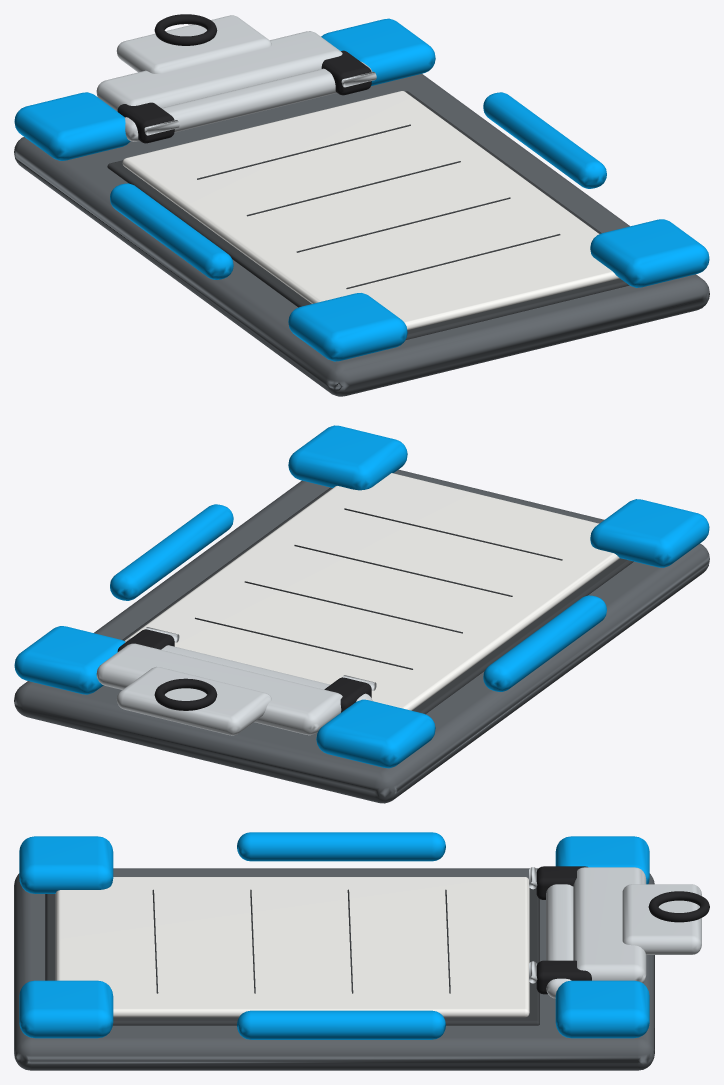
Rendered from Klemmbrett_3D.glb.
The picture shows the model from 3 angles, top to bottom: view 1: azimuth 30°, elevation 25°; view 2: azimuth 150°, elevation 25°; view 3: azimuth 270°, elevation 25°; orthographic projection. The views are drawn at different scales.
Visible parts, largest first — view 1: Klemmbrett_3D__web_warm_white_clipboard_paper_sheet, Klemmbrett_3D__web_dark_graphite_clipboard_frame, Klemmbrett_3D__web_bright_blue_clipboard_corner_bumpers, Klemmbrett_3D__web_brushed_metal_clipboard_clip, Klemmbrett_3D__web_dark_paper_edge_shadow, Klemmbrett_3D__web_black_clipboard_hinge_details; view 2: Klemmbrett_3D__web_warm_white_clipboard_paper_sheet, Klemmbrett_3D__web_dark_graphite_clipboard_frame, Klemmbrett_3D__web_bright_blue_clipboard_corner_bumpers, Klemmbrett_3D__web_brushed_metal_clipboard_clip, Klemmbrett_3D__web_dark_paper_edge_shadow, Klemmbrett_3D__web_black_clipboard_hinge_details; view 3: Klemmbrett_3D__web_warm_white_clipboard_paper_sheet, Klemmbrett_3D__web_dark_graphite_clipboard_frame, Klemmbrett_3D__web_bright_blue_clipboard_corner_bumpers, Klemmbrett_3D__web_brushed_metal_clipboard_clip, Klemmbrett_3D__web_dark_paper_edge_shadow, Klemmbrett_3D__web_black_clipboard_hinge_details.
Part boxes in pixels (x1,y1,x2,y2): Klemmbrett_3D__web_warm_white_clipboard_paper_sheet: (122, 91, 619, 330); Klemmbrett_3D__web_dark_graphite_clipboard_frame: (14, 74, 709, 396); Klemmbrett_3D__web_bright_blue_clipboard_corner_bumpers: (14, 18, 709, 361); Klemmbrett_3D__web_brushed_metal_clipboard_clip: (96, 15, 376, 141); Klemmbrett_3D__web_dark_paper_edge_shadow: (107, 91, 629, 340); Klemmbrett_3D__web_black_clipboard_hinge_details: (117, 14, 371, 143); Klemmbrett_3D__web_warm_white_clipboard_paper_sheet: (125, 473, 619, 710); Klemmbrett_3D__web_dark_graphite_clipboard_frame: (14, 469, 709, 803); Klemmbrett_3D__web_bright_blue_clipboard_corner_bumpers: (14, 425, 709, 768); Klemmbrett_3D__web_brushed_metal_clipboard_clip: (96, 627, 376, 735); Klemmbrett_3D__web_dark_paper_edge_shadow: (122, 487, 633, 714); Klemmbrett_3D__web_black_clipboard_hinge_details: (117, 629, 371, 712); Klemmbrett_3D__web_warm_white_clipboard_paper_sheet: (55, 877, 529, 1017); Klemmbrett_3D__web_dark_graphite_clipboard_frame: (14, 868, 654, 1070); Klemmbrett_3D__web_bright_blue_clipboard_corner_bumpers: (19, 832, 649, 1039); Klemmbrett_3D__web_brushed_metal_clipboard_clip: (529, 867, 701, 998); Klemmbrett_3D__web_dark_paper_edge_shadow: (45, 888, 539, 1025); Klemmbrett_3D__web_black_clipboard_hinge_details: (536, 866, 709, 994).
Bounding box in the file's own units: 0.651 × 0.1307 × 0.999.
